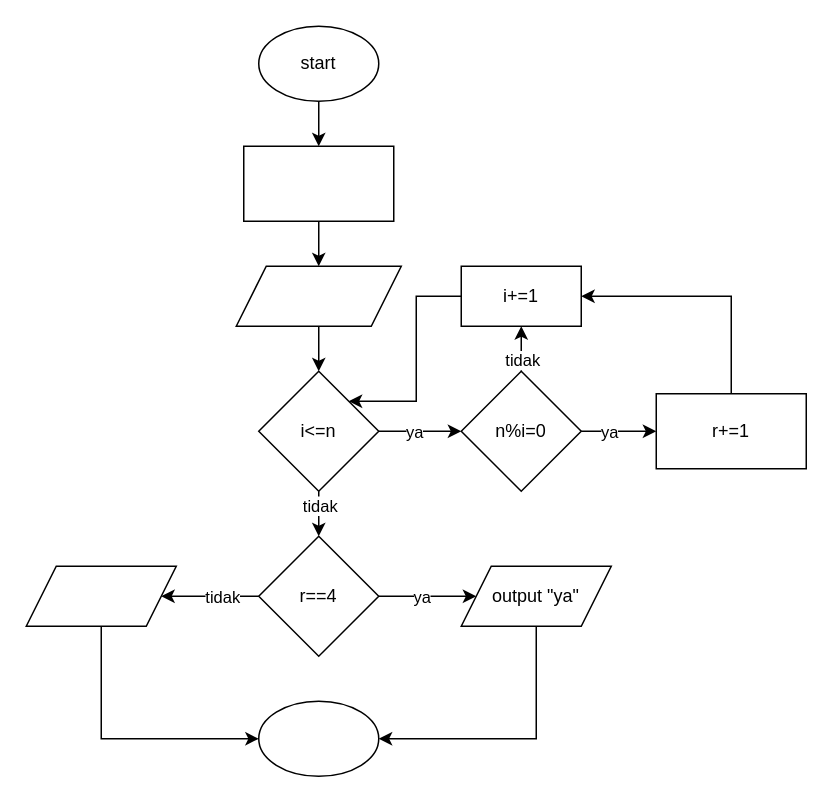
Some shapes in this 833 by 803 pixel diagram are drawn without their labels. The centre of each missing label's shape, as x and y in pixels:
end: point (318, 738)
masukkan angka(n): point (318, 295)
n = 0 i = 0 r = 0: point (318, 183)
output "tidak": point (100, 595)
